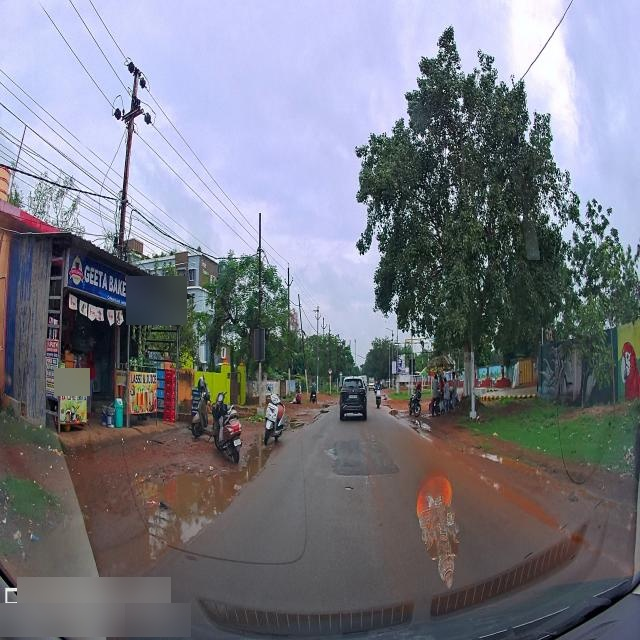pothole: (143, 480, 210, 523), (216, 457, 263, 497), (476, 442, 532, 471), (120, 545, 160, 564), (289, 418, 304, 433), (387, 406, 401, 418)
